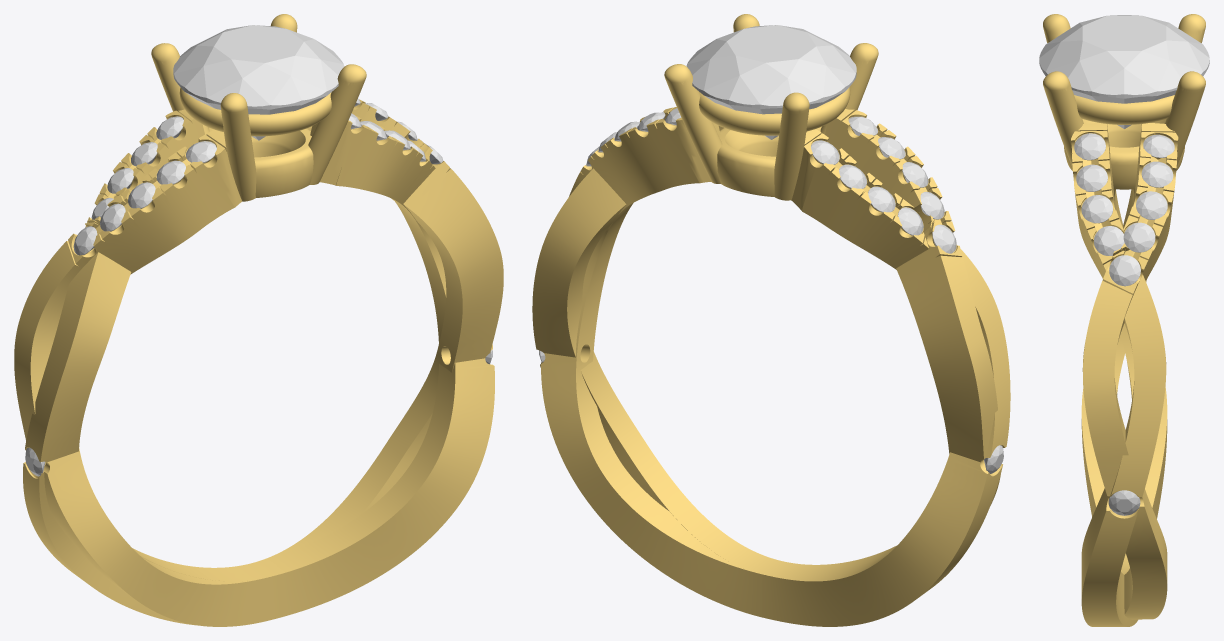
Rendered from diamond-round-yellowgold-4prong-twist-sidestones.glb.
3 renders of one model, left to right at view 1: azimuth 30°, elevation 25°; view 2: azimuth 150°, elevation 25°; view 3: azimuth 270°, elevation 25°, orthographic.
Visible parts, largest first — view 1: metal, stone; view 2: metal, stone; view 3: metal, stone, side.015, side.016, side.017, side.012, side.011, side.013, side.014, side.018, side.010, side.019.
Part boxes in pixels (<box>): metal: <box>14,14,503,626</box>; stone: <box>173,25,344,140</box>; metal: <box>532,14,1010,626</box>; stone: <box>686,25,856,139</box>; metal: <box>1043,14,1205,626</box>; stone: <box>1039,15,1209,128</box>; side.015: <box>1109,255,1140,286</box>; side.016: <box>1123,222,1155,252</box>; side.017: <box>1136,191,1167,219</box>; side.012: <box>1081,195,1113,223</box>; side.011: <box>1094,226,1124,255</box>; side.013: <box>1076,164,1107,191</box>; side.014: <box>1074,133,1105,160</box>; side.018: <box>1141,161,1173,187</box>; side.010: <box>1108,490,1140,515</box>; side.019: <box>1143,134,1174,157</box>.
Bounding box in the file's own units: 19.97 × 23.61 × 6.44.
